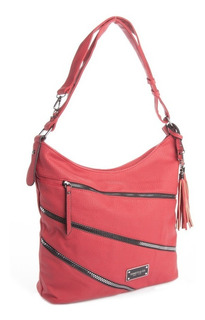cartera: (25, 15, 192, 306)
